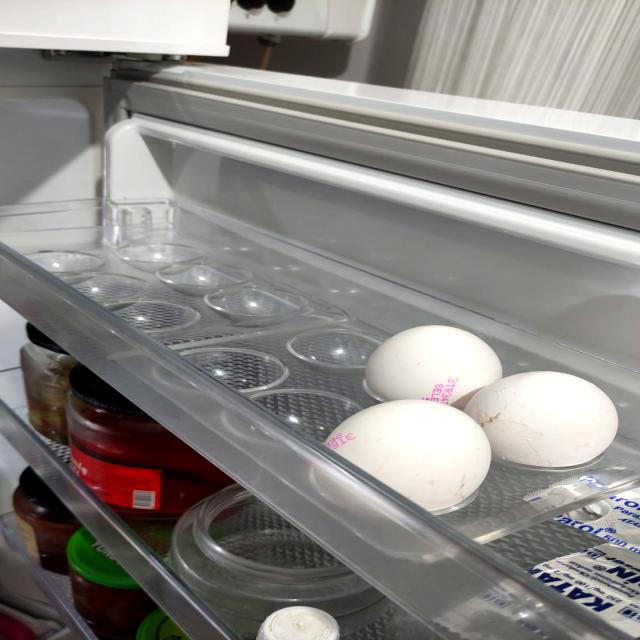egg: (311, 396, 496, 520), (479, 359, 624, 472), (359, 310, 511, 416)
